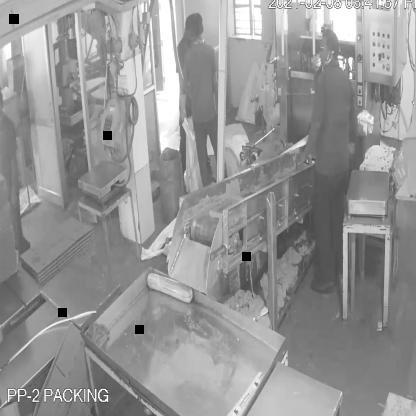no_glove: (294, 102, 325, 170)
